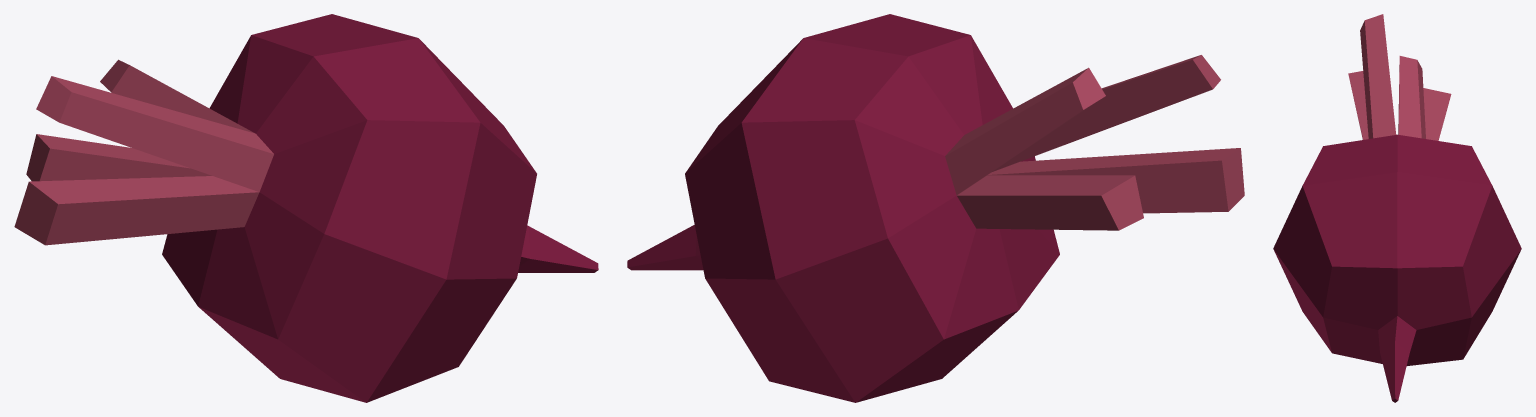
The model's file is beetroot.fbx.
The picture shows the model from 3 angles, left to right: view 1: azimuth 30°, elevation 25°; view 2: azimuth 150°, elevation 25°; view 3: azimuth 270°, elevation 25°; orthographic projection. The views are drawn at different scales.
Visible parts, largest first — view 1: beetroot; view 2: beetroot; view 3: beetroot.
Part boxes in pixels (x1,y1,x2,y2): beetroot: (14, 14, 598, 402); beetroot: (627, 14, 1244, 402); beetroot: (1273, 14, 1521, 402).
Size of the model in its own units: 16.44 by 9.8 by 9.34.
Materials: 1 (1 with a texture image).
